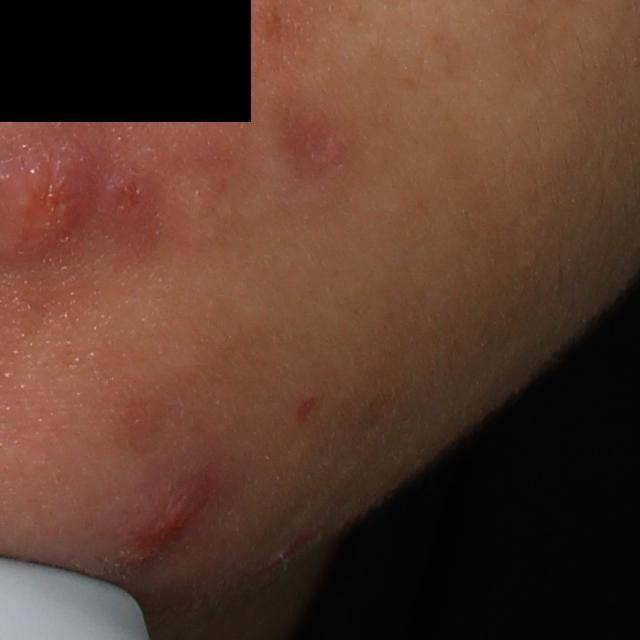papule: (118, 475, 215, 572)
